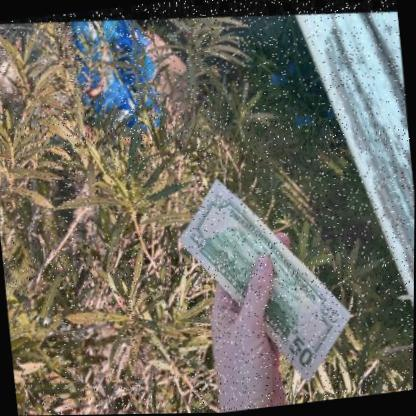fifty-back: (179, 173, 352, 376)
